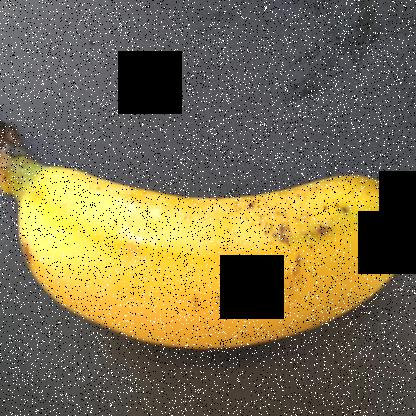ripe: (5, 146, 415, 352)
